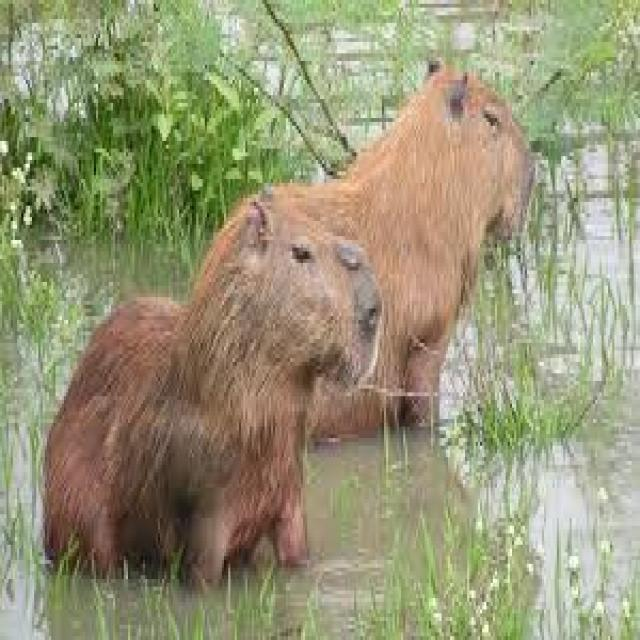capy: (39, 201, 383, 589), (318, 56, 534, 428)
